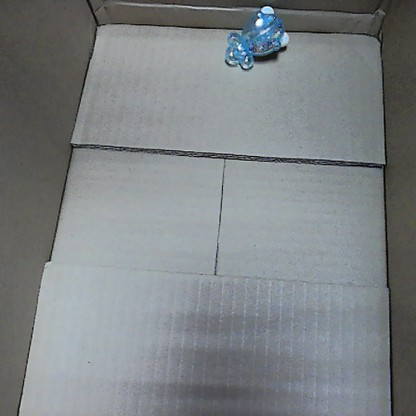bluefish: (224, 5, 291, 72)
